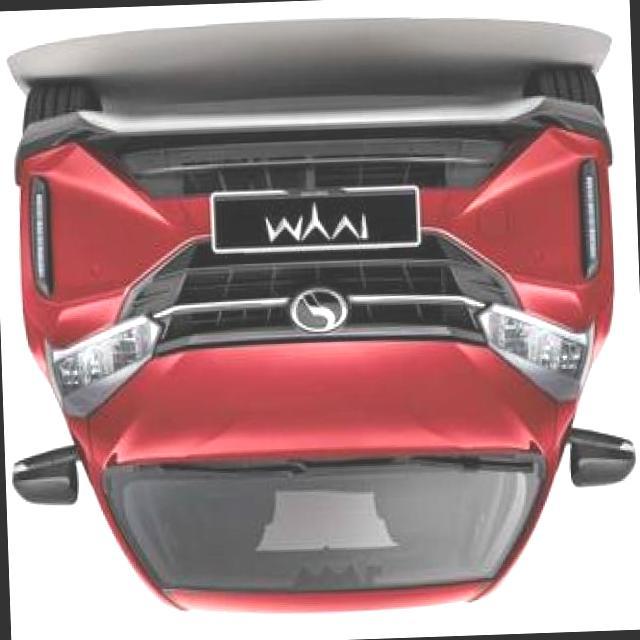PeroduaMyvi: (0, 57, 640, 627)
